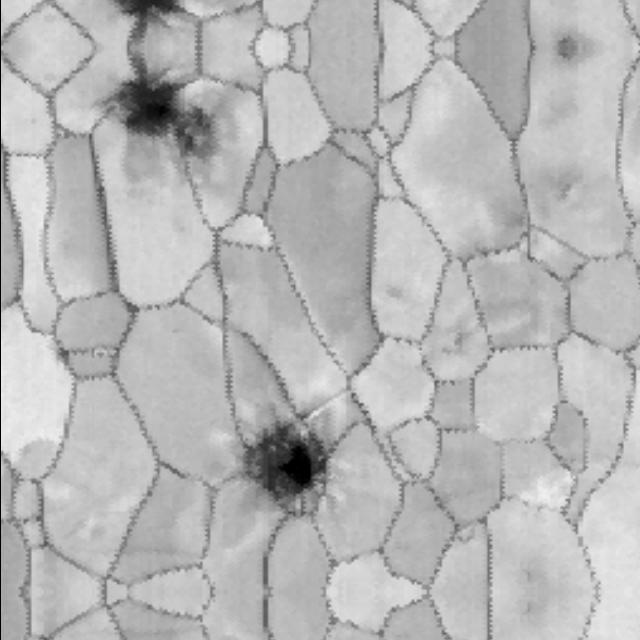good_void: (103, 49, 218, 171), (233, 417, 338, 515), (103, 0, 200, 49), (429, 319, 473, 362), (548, 49, 594, 70), (548, 28, 594, 49), (50, 341, 80, 369), (89, 344, 109, 369)
